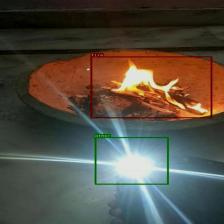fire: (90, 56, 212, 118)
